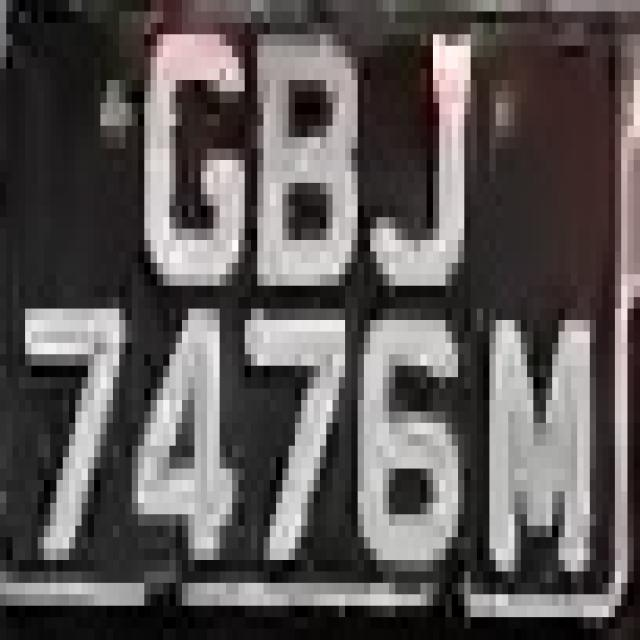4: (100, 297, 251, 594)
6: (345, 297, 471, 594)
7: (0, 263, 132, 583), (226, 263, 358, 583)
B: (245, 12, 358, 297)
G: (125, 11, 251, 320)
J: (352, 0, 489, 320)
M: (477, 297, 615, 594)
